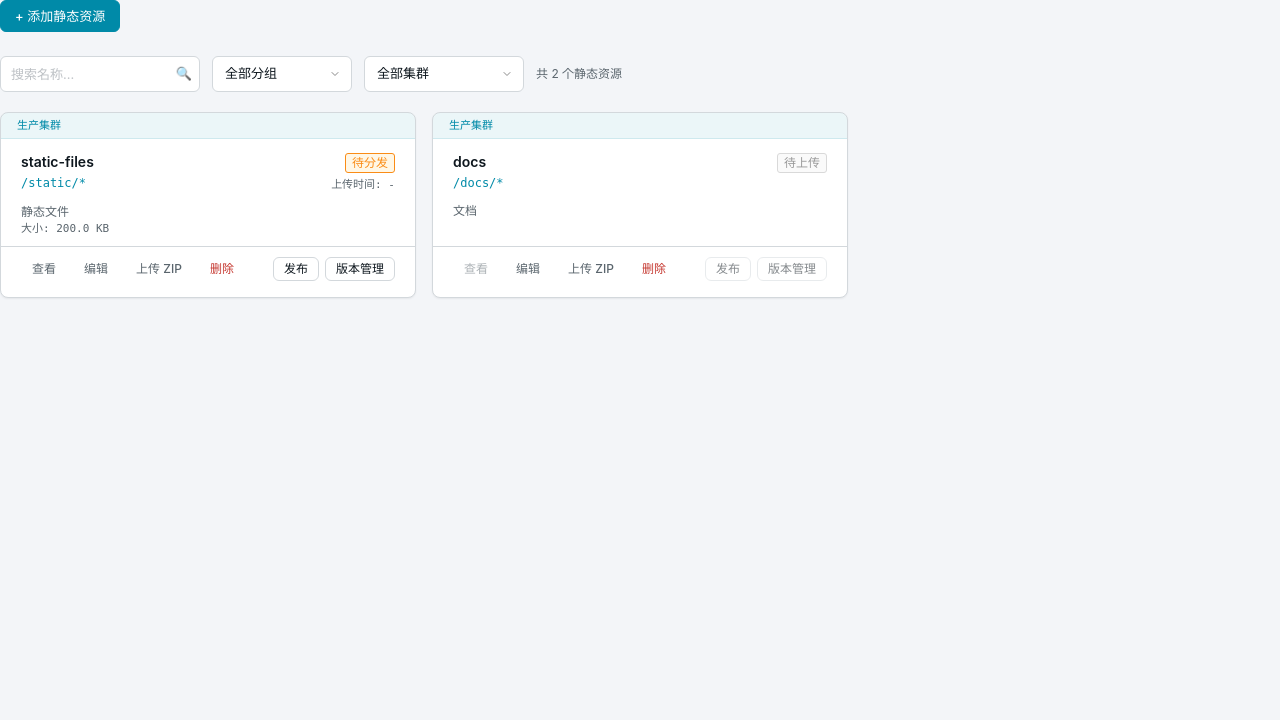
Test case: StaticResourceList.vue 上传走共享流（static-resources-ux-close-loop 1.2） › clicking 上传 ZIP opens shared stream (progress modal with result lines, not bare api.post at click time)
Click the button "上传 ZIP" below "大小: 200.0 KB".
click(159, 269)  # box [125,257,193,282]
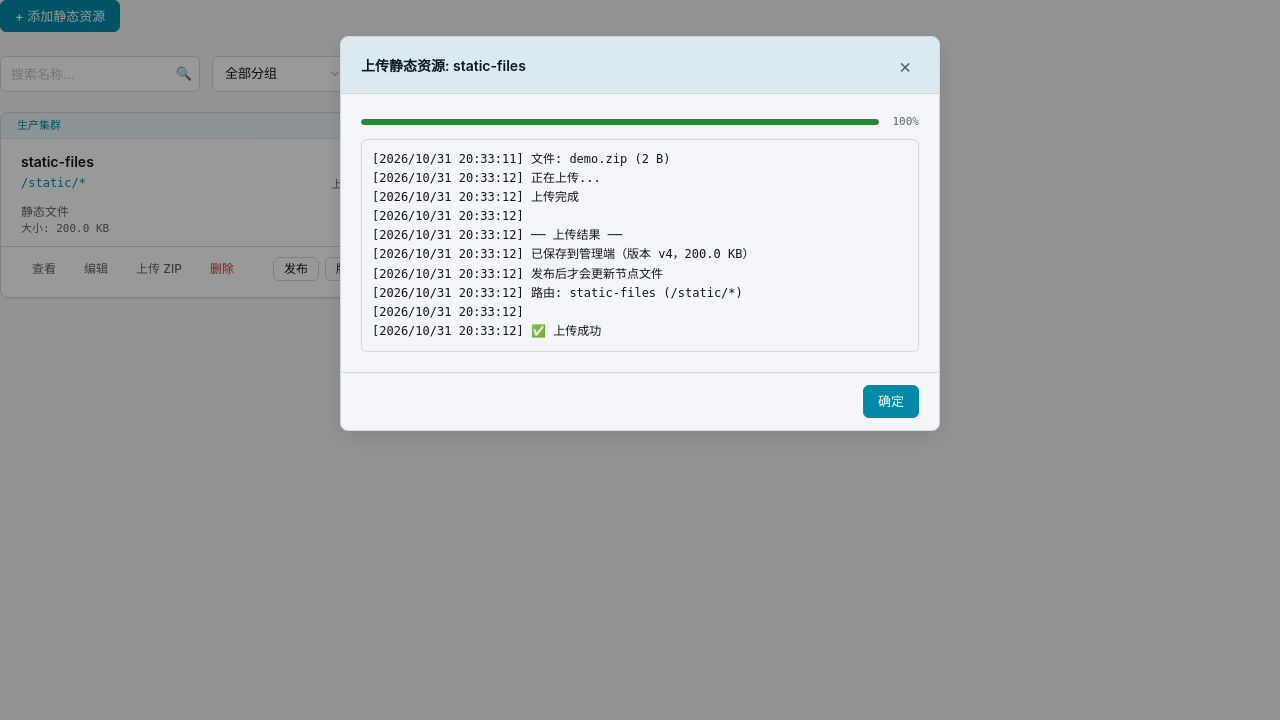
Expected: the text "上传静态资源: static-files" is shown, [361,54,526,76]
Expected: the text "已保存到管理端（版本 v4，200.0 KB）" is shown, [372,247,754,261]
Expected: the text "发布后才会更新节点文件" is shown, [372,267,663,281]
